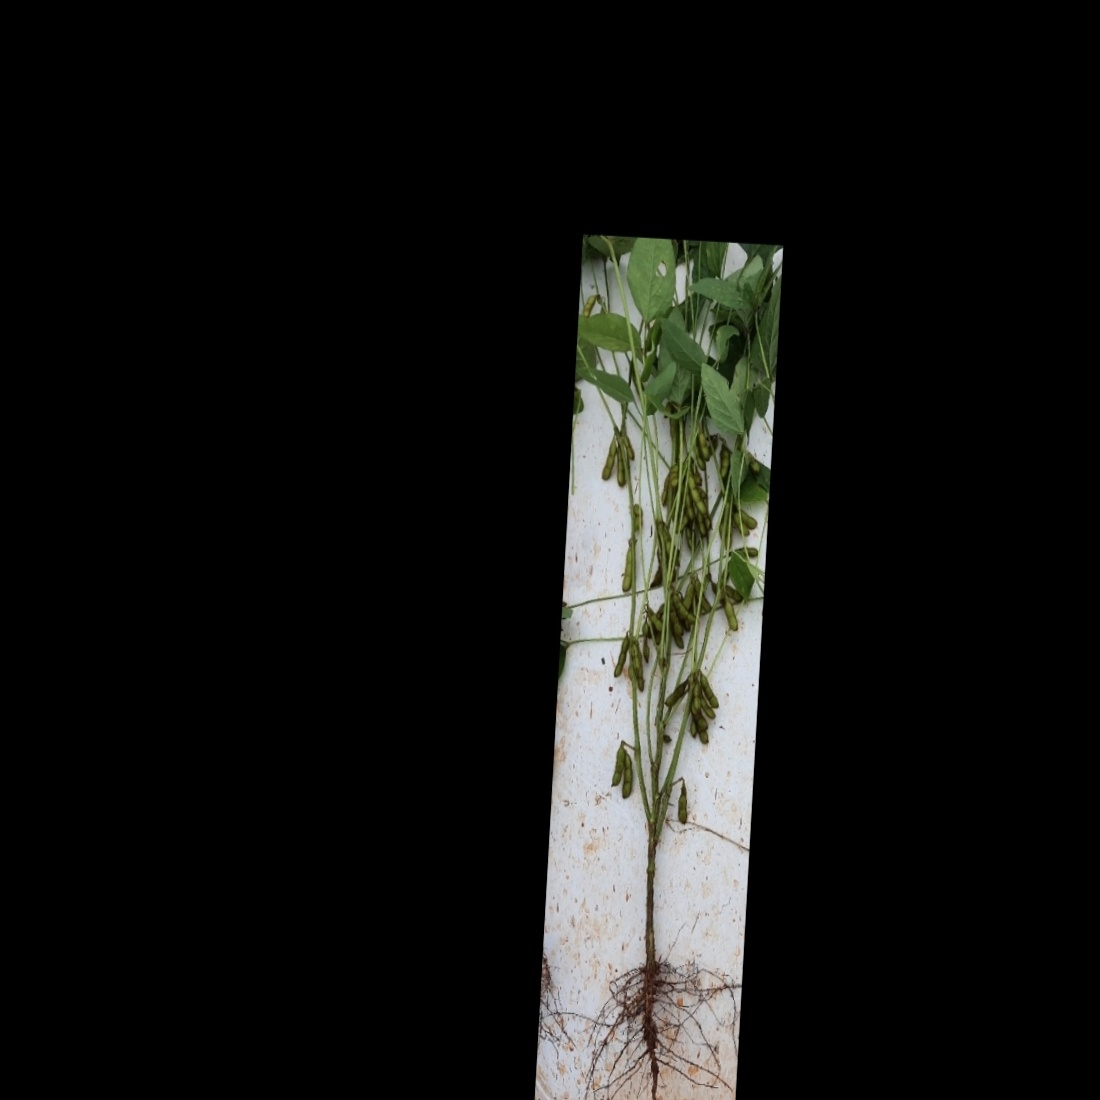pod: (683, 465, 712, 518), (691, 671, 725, 715), (665, 591, 703, 626), (614, 539, 638, 595), (660, 673, 692, 709), (692, 678, 718, 720), (611, 627, 632, 681), (597, 437, 618, 486), (618, 750, 637, 803), (721, 598, 744, 638), (674, 782, 694, 825), (605, 746, 627, 787), (694, 427, 713, 464)
soy: (538, 238, 776, 1100)
